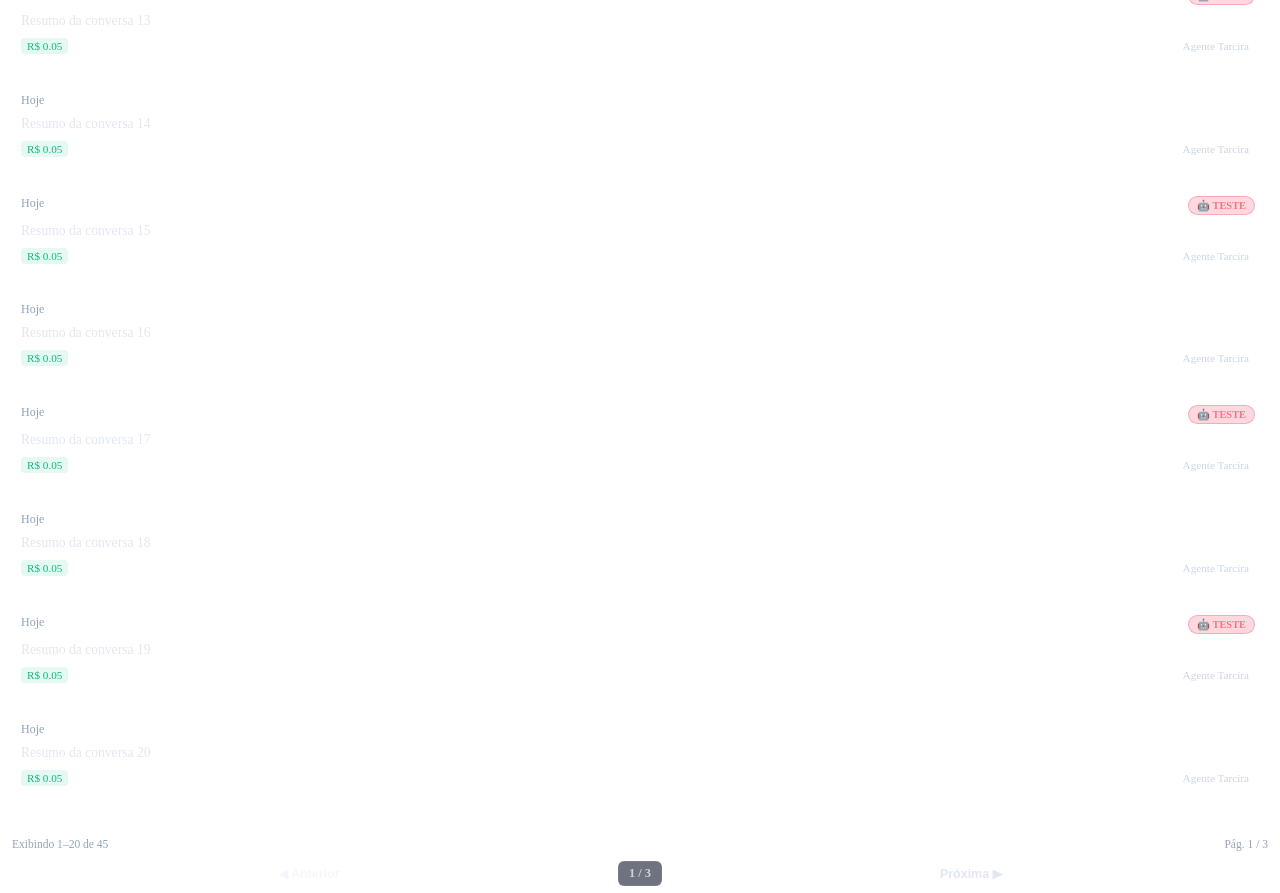
Test: HistoryList Component com Paginação › deve avançar para a página 2 ao clicar em Próxima
(page scrolled)
Click the button with test id "history-page-next" at {"x": 971, "y": 874}, box [670,858,1272,889]
(page scrolled)
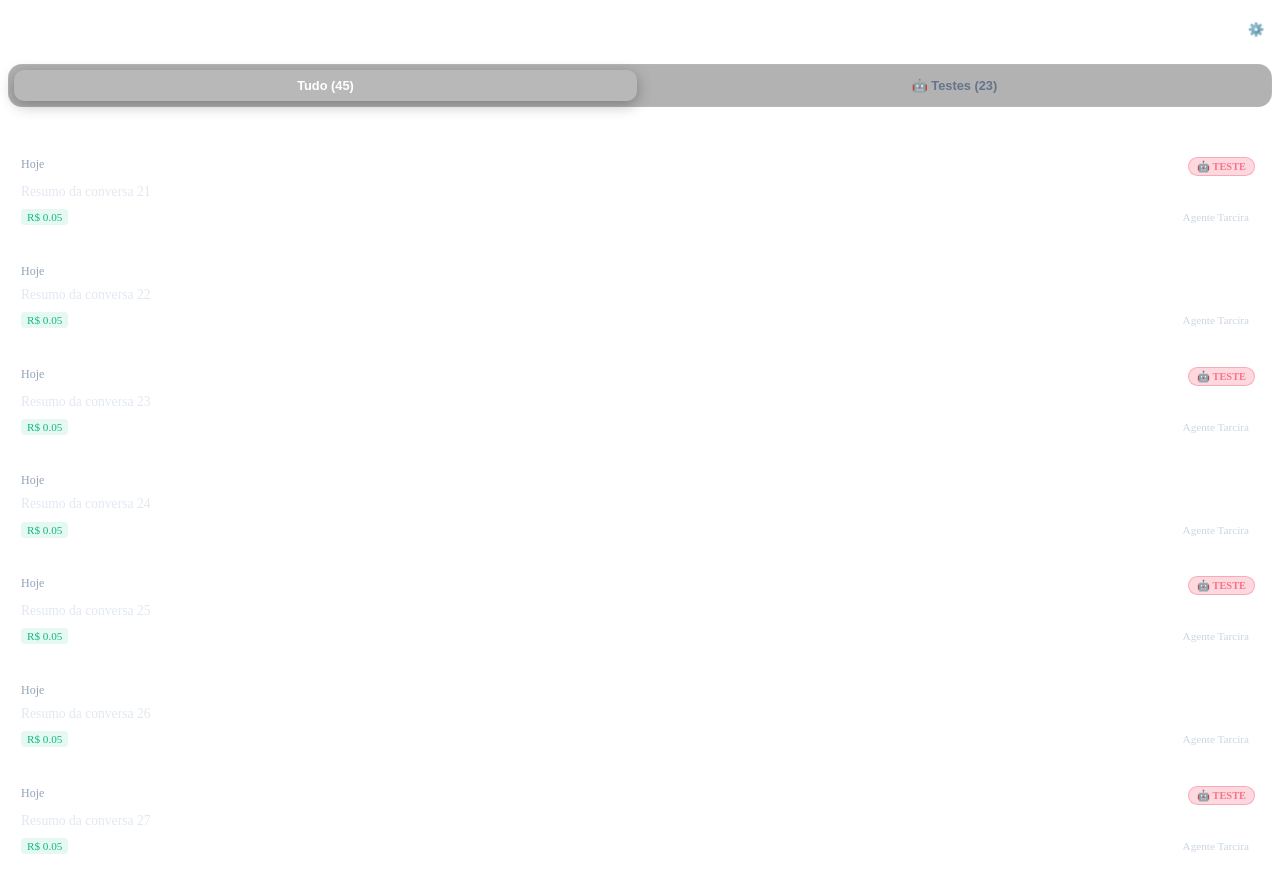
Expected: the text "Resumo da conversa 21" is shown, [21,184,150,199]
Expected: the text "Resumo da conversa 1" is gone
